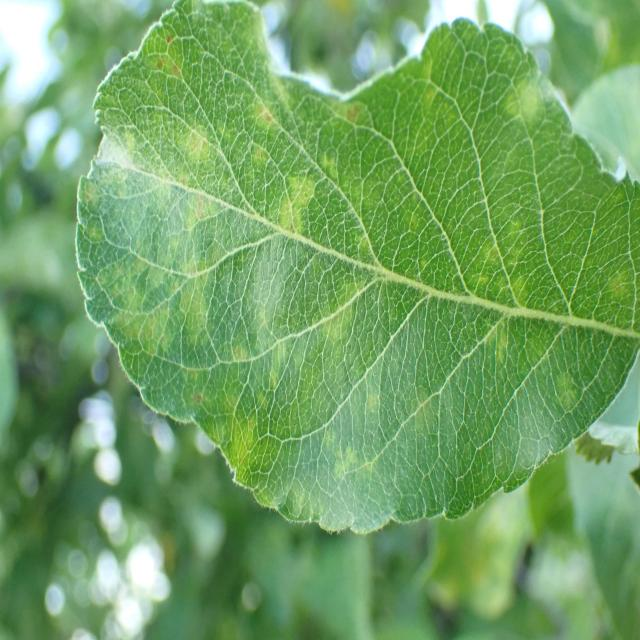scab: (80, 23, 635, 485)
